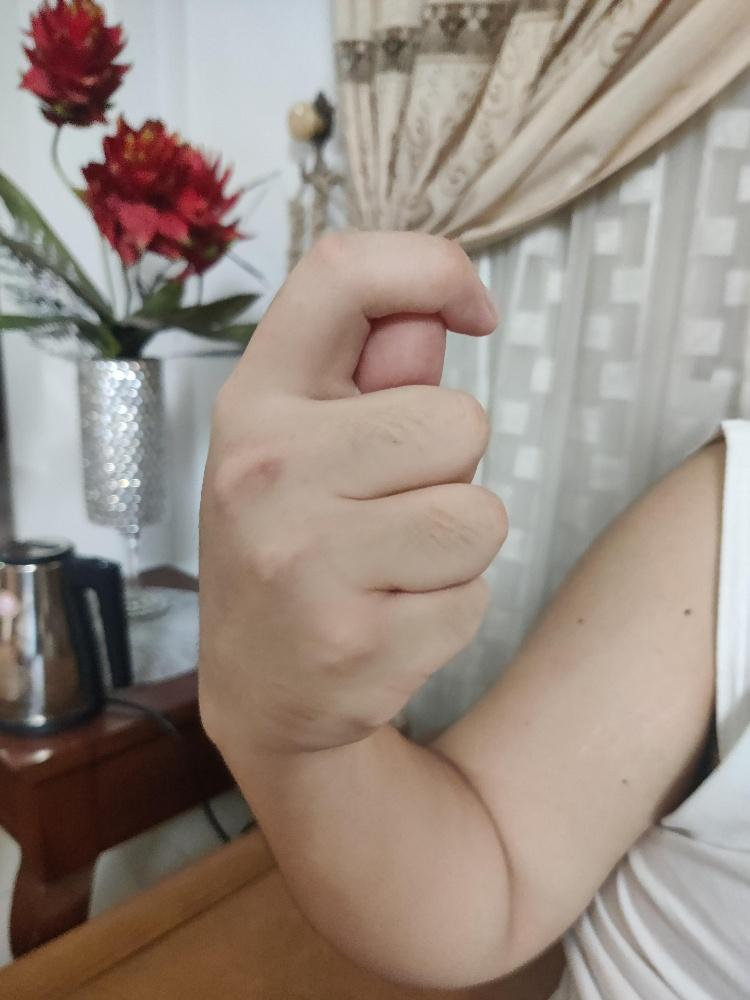t: (195, 225, 511, 750)
